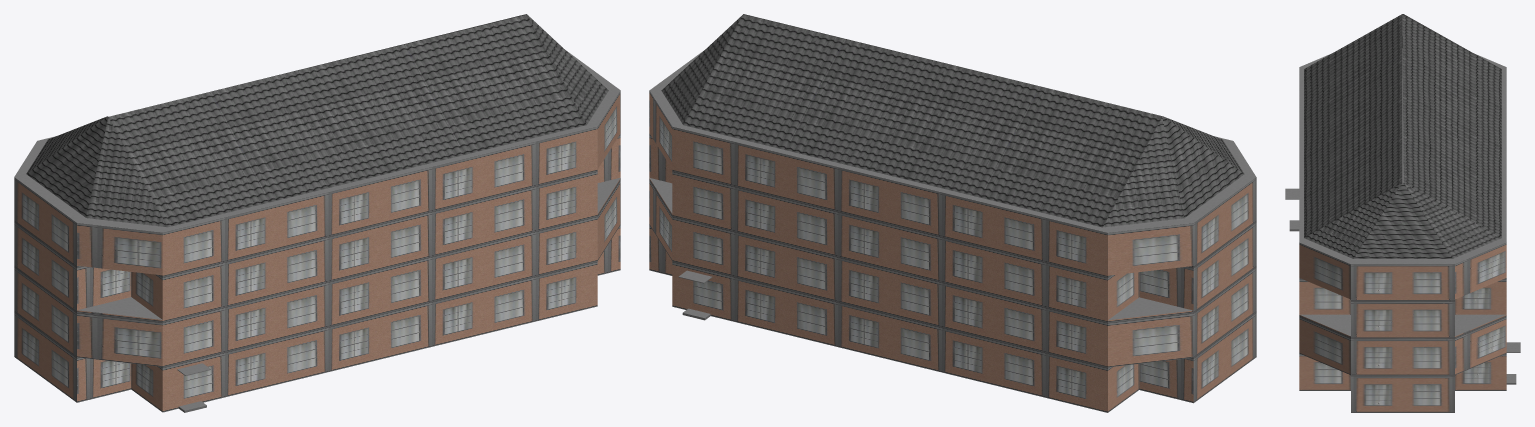
The model's file is LOD01_Building_4stores_PopularHouse.obj.
3 renders of one model, left to right at view 1: azimuth 30°, elevation 25°; view 2: azimuth 150°, elevation 25°; view 3: azimuth 270°, elevation 25°, orthographic. The views are drawn at different scales.
Visible parts, largest first — view 1: LOD01_Building_4stores_PopularHouse; view 2: LOD01_Building_4stores_PopularHouse; view 3: LOD01_Building_4stores_PopularHouse.
Boxes of the visible parts, <box> form: LOD01_Building_4stores_PopularHouse: <box>14,14,620,412</box>; LOD01_Building_4stores_PopularHouse: <box>649,14,1256,412</box>; LOD01_Building_4stores_PopularHouse: <box>1285,14,1520,412</box>.
Size of the model in its own units: 13.12 by 5.72 by 5.95.
